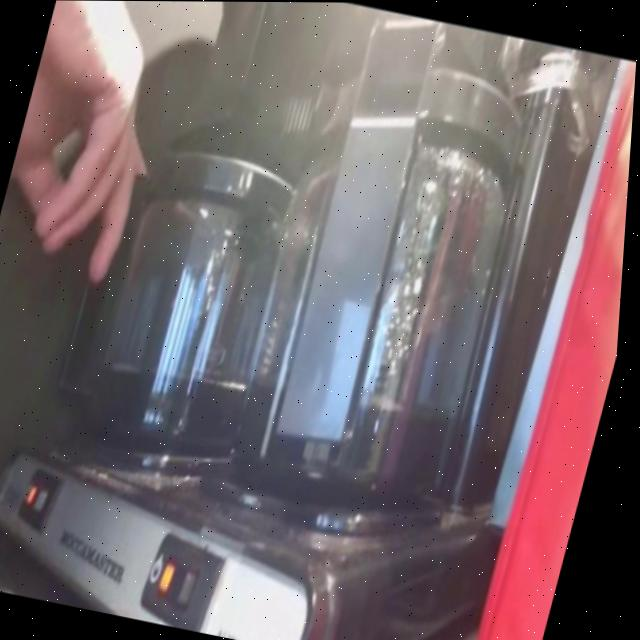coffee: (218, 27, 586, 537), (45, 117, 342, 491)
